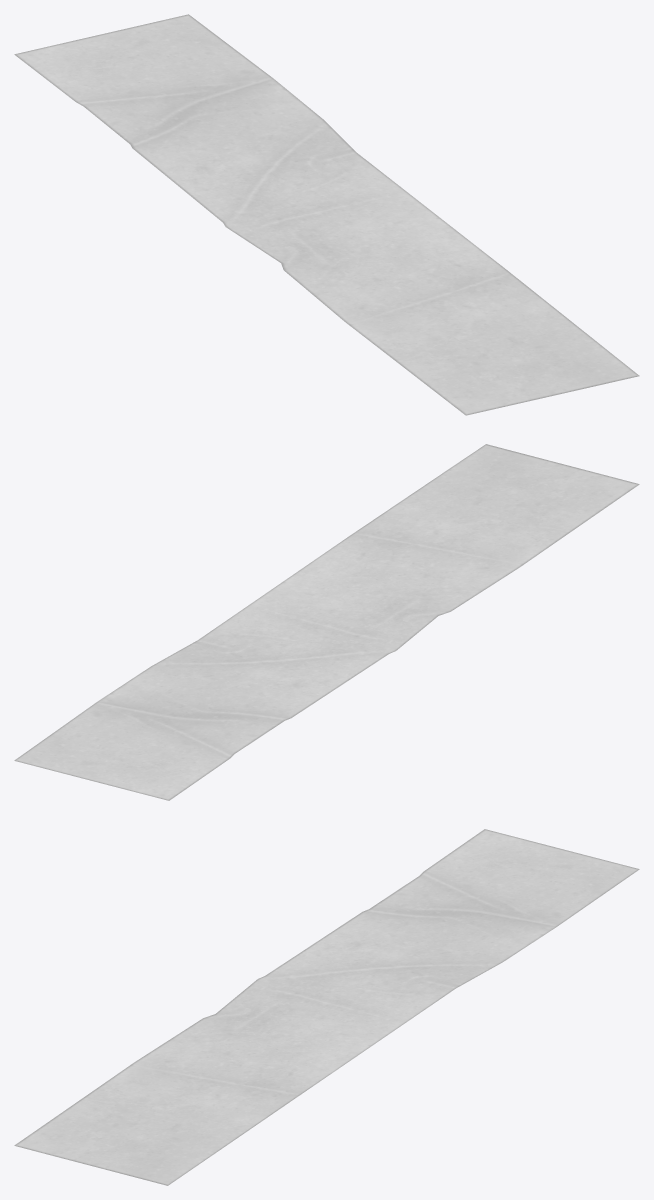
File: Pfb_Canvas_Ground_1x5__2.fbx
3 views of the same model, one above another, from view 1: azimuth 30°, elevation 25°; view 2: azimuth 150°, elevation 25°; view 3: azimuth 330°, elevation 25° (orthographic). The views are drawn at different scales.
Parts seen in each view (by area): view 1: Mat_Canvas_Ground_Dark; view 2: Mat_Canvas_Ground_Dark; view 3: Mat_Canvas_Ground_Dark.
Part boxes in pixels (box(x1,y1,x2,y2)): Mat_Canvas_Ground_Dark: box(14, 14, 639, 415); Mat_Canvas_Ground_Dark: box(14, 444, 639, 800); Mat_Canvas_Ground_Dark: box(14, 829, 639, 1185).
Bounding box in the file's own units: 1.18 × 0.00538 × 4.89.
1 material, 1 textured.
